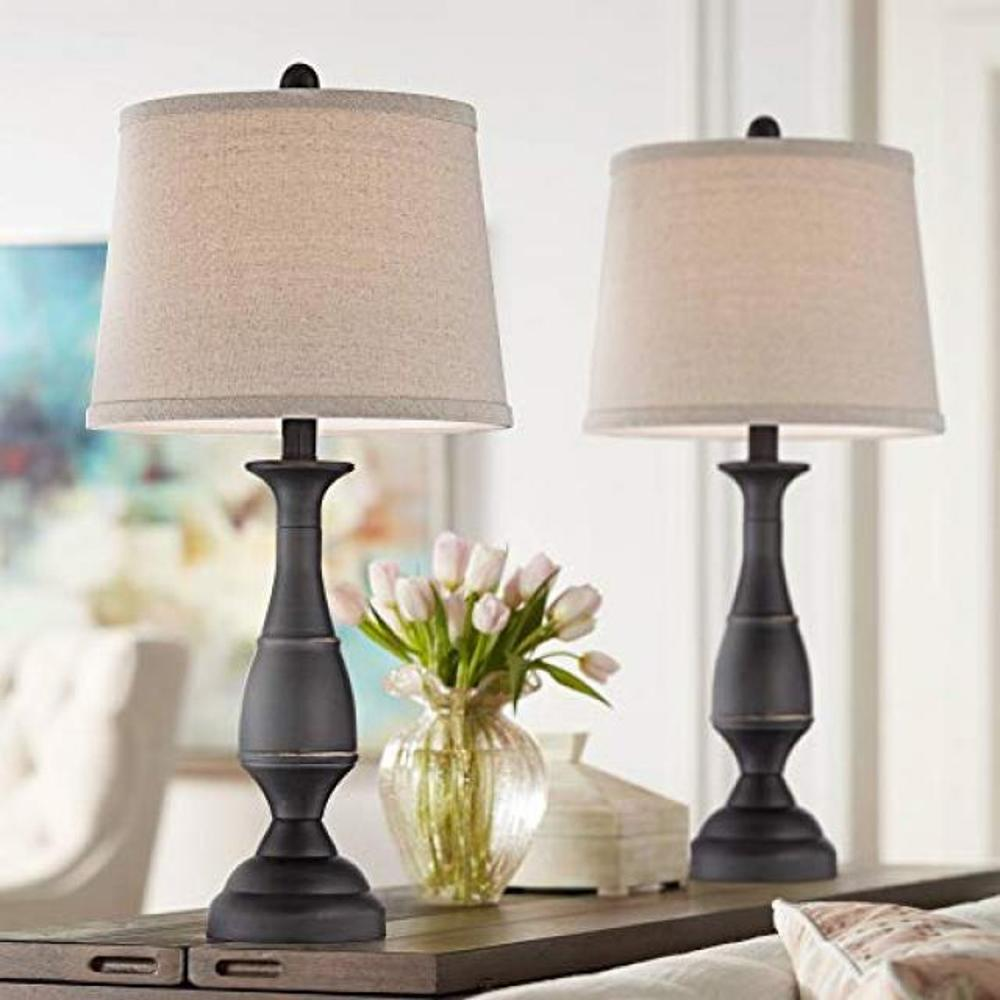shelf: (79, 38, 521, 950), (566, 89, 962, 882)
